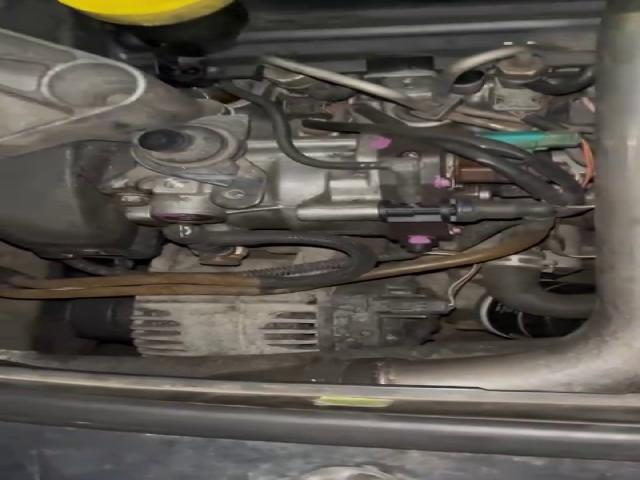alternator: (129, 259, 451, 357)
high_pressure_pump: (120, 128, 500, 253)
